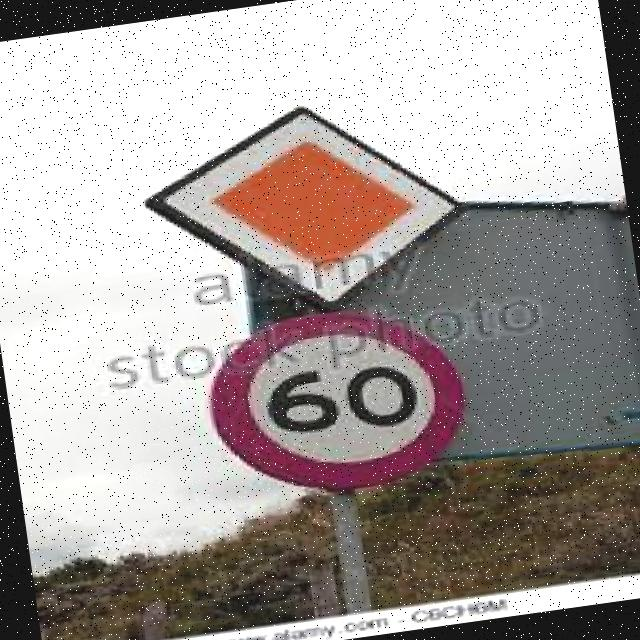Ograniczenie predkosci do 60: (210, 296, 471, 506)
